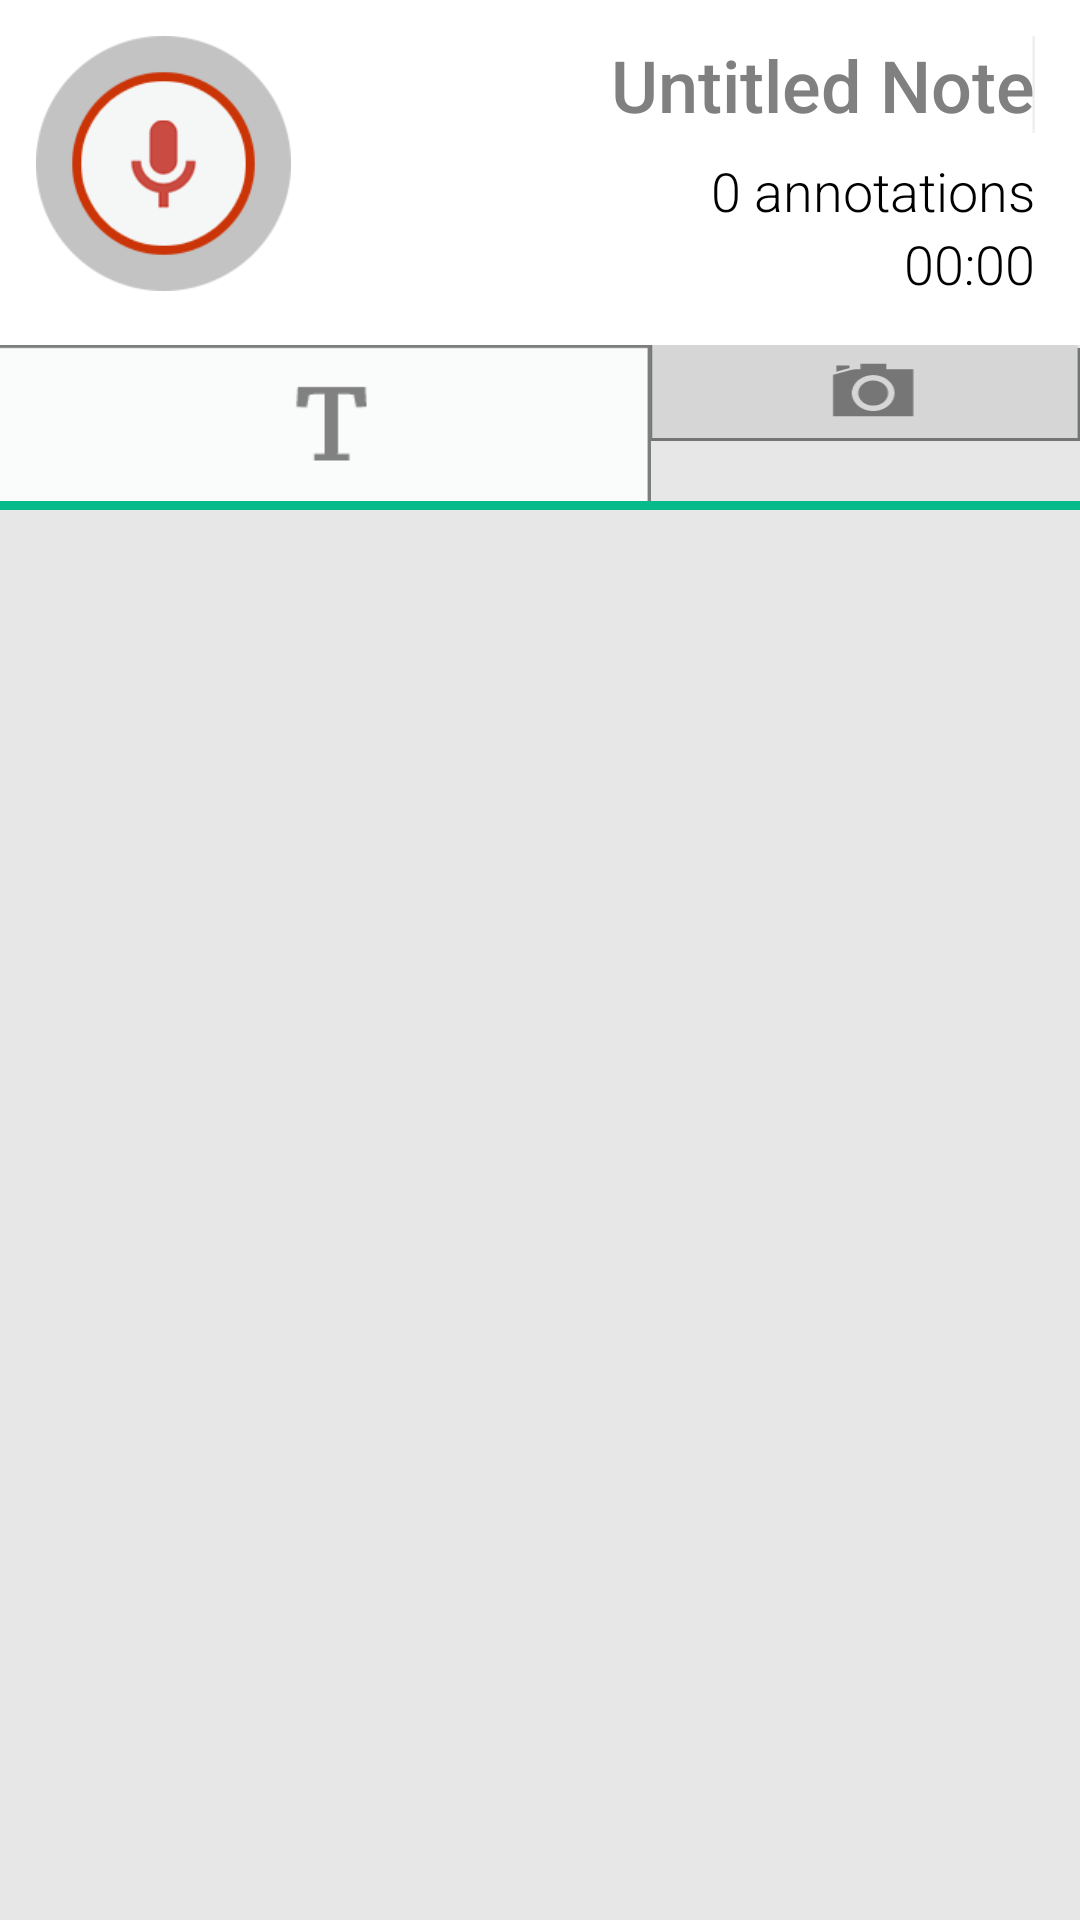

Screen size 1080 x 1920. Icon name, then its center in pixels as [x,y]:
start record: [163,163]
